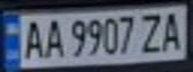0: (103, 14, 121, 56)
7: (118, 11, 139, 55)
9: (84, 16, 106, 57), (66, 16, 87, 58)
A: (157, 8, 187, 54), (18, 17, 48, 60), (39, 16, 66, 60)
Z: (136, 10, 166, 55)
